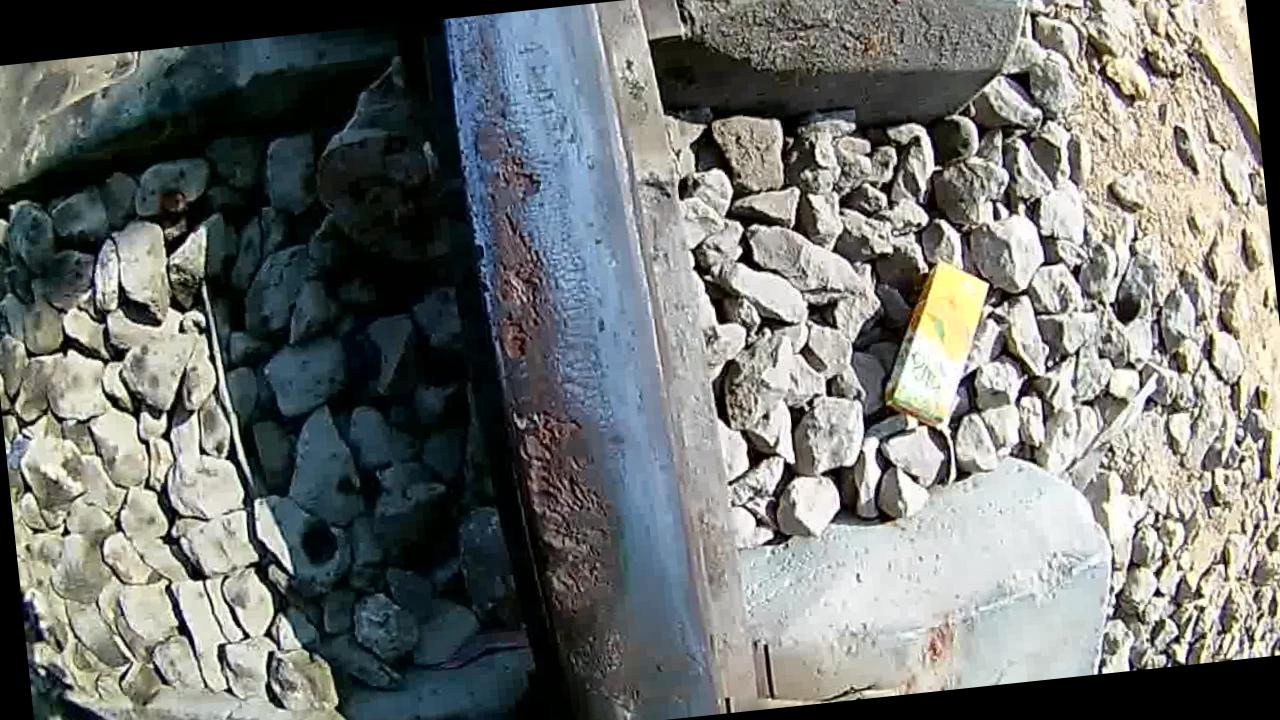crack: (435, 0, 720, 720)
